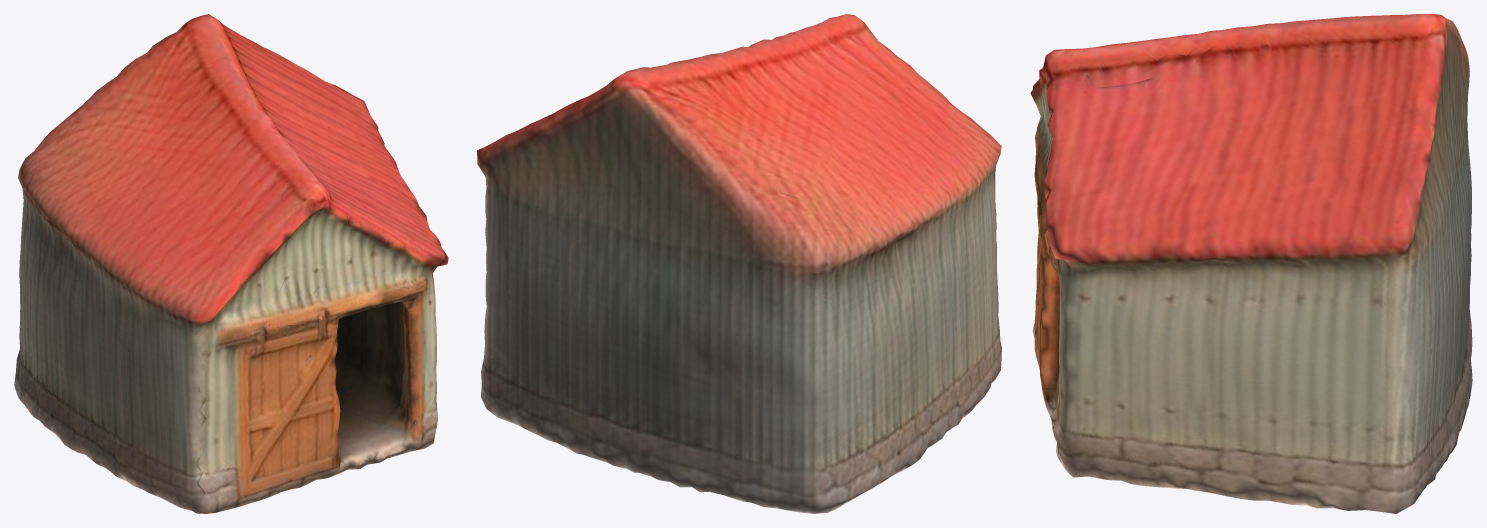
The model's file is warehouse.glb.
3 views of the same model, side by side, from view 1: azimuth 30°, elevation 25°; view 2: azimuth 150°, elevation 25°; view 3: azimuth 270°, elevation 25° (orthographic). The views are drawn at different scales.
Parts seen in each view (by area): view 1: world; view 2: world; view 3: world.
Part boxes in pixels (x1,y1,x2,y2): world: [14, 14, 448, 513]; world: [477, 14, 1001, 513]; world: [1030, 14, 1472, 513].
Size of the model in its own units: 3.67 by 3.5 by 3.34.
Materials: 1 (1 with a texture image).
